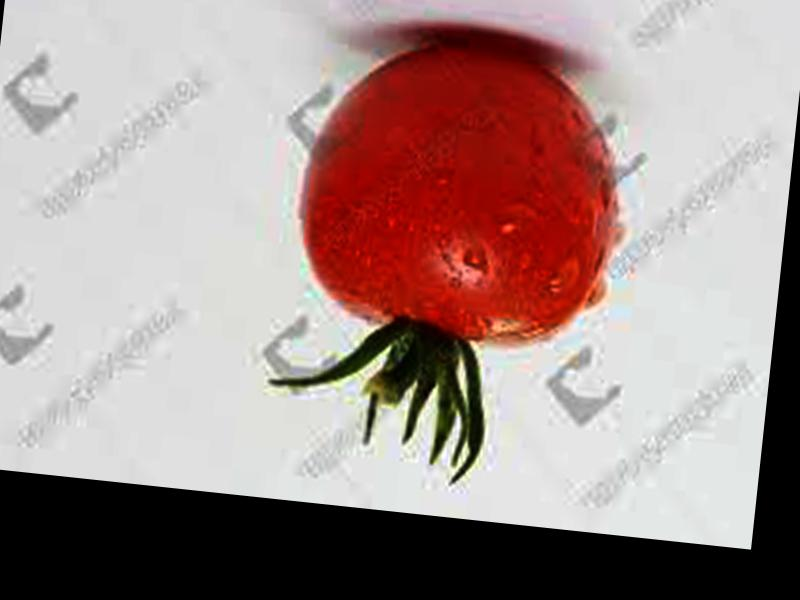Tomato: (288, 28, 631, 350)
